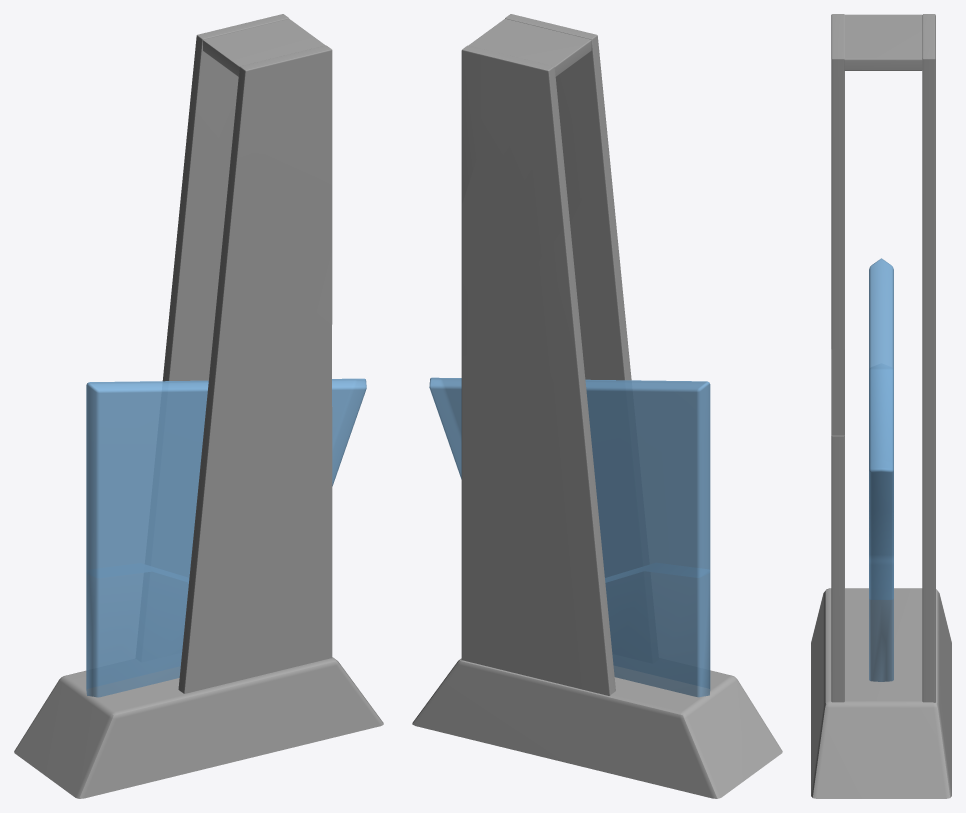
The model's file is sculpture2_broken.fbx.
3 views of the same model, side by side, from view 1: azimuth 30°, elevation 25°; view 2: azimuth 150°, elevation 25°; view 3: azimuth 270°, elevation 25° (orthographic). The views are drawn at different scales.
Parts seen in each view (by area): view 1: sculpture2_broken6, sculpture2_broken4, sculpture2_broken7, sculpture2_broken_vitre2, sculpture2_broken8, sculpture2_broken_vitre1, sculpture2_broken3, sculpture2_broken1, sculpture2_broken5, sculpture2_broken_vitre3, sculpture2_broken2; view 2: sculpture2_broken2, sculpture2_broken4, sculpture2_broken_vitre2, sculpture2_broken1, sculpture2_broken3, sculpture2_broken_vitre1, sculpture2_broken6, sculpture2_broken8, sculpture2_broken5, sculpture2_broken_vitre3; view 3: sculpture2_broken4, sculpture2_broken_vitre3, sculpture2_broken_vitre2, sculpture2_broken7, sculpture2_broken8, sculpture2_broken5, sculpture2_broken2, sculpture2_broken3, sculpture2_broken_vitre1, sculpture2_broken1.
Part boxes in pixels (x1,y1,x2,y2): sculpture2_broken6: (178,228,292,693); sculpture2_broken4: (14,657,383,798); sculpture2_broken7: (228,294,332,682); sculpture2_broken_vitre2: (86,380,208,582); sculpture2_broken8: (223,45,332,324); sculpture2_broken_vitre1: (86,564,188,697); sculpture2_broken3: (181,14,289,230); sculpture2_broken1: (166,193,226,371); sculpture2_broken5: (203,19,325,76); sculpture2_broken_vitre3: (332,378,366,486); sculpture2_broken2: (162,346,209,381); sculpture2_broken2: (461,352,615,695); sculpture2_broken4: (412,658,782,798); sculpture2_broken_vitre2: (585,379,710,582); sculpture2_broken1: (461,150,585,474); sculpture2_broken3: (461,45,569,262); sculpture2_broken_vitre1: (605,564,710,697); sculpture2_broken6: (569,197,631,380); sculpture2_broken8: (505,14,613,213); sculpture2_broken5: (468,19,591,76); sculpture2_broken_vitre3: (429,377,461,479); sculpture2_broken4: (811,588,951,798); sculpture2_broken_vitre3: (869,363,893,599); sculpture2_broken_vitre2: (869,258,893,474); sculpture2_broken7: (831,349,844,702); sculpture2_broken8: (831,14,844,349); sculpture2_broken5: (844,14,922,70); sculpture2_broken2: (922,382,935,702); sculpture2_broken3: (922,14,935,221); sculpture2_broken_vitre1: (869,565,893,681); sculpture2_broken1: (922,221,935,382).
Bounding box in the file's own units: 93.2 × 188 × 33.52.
